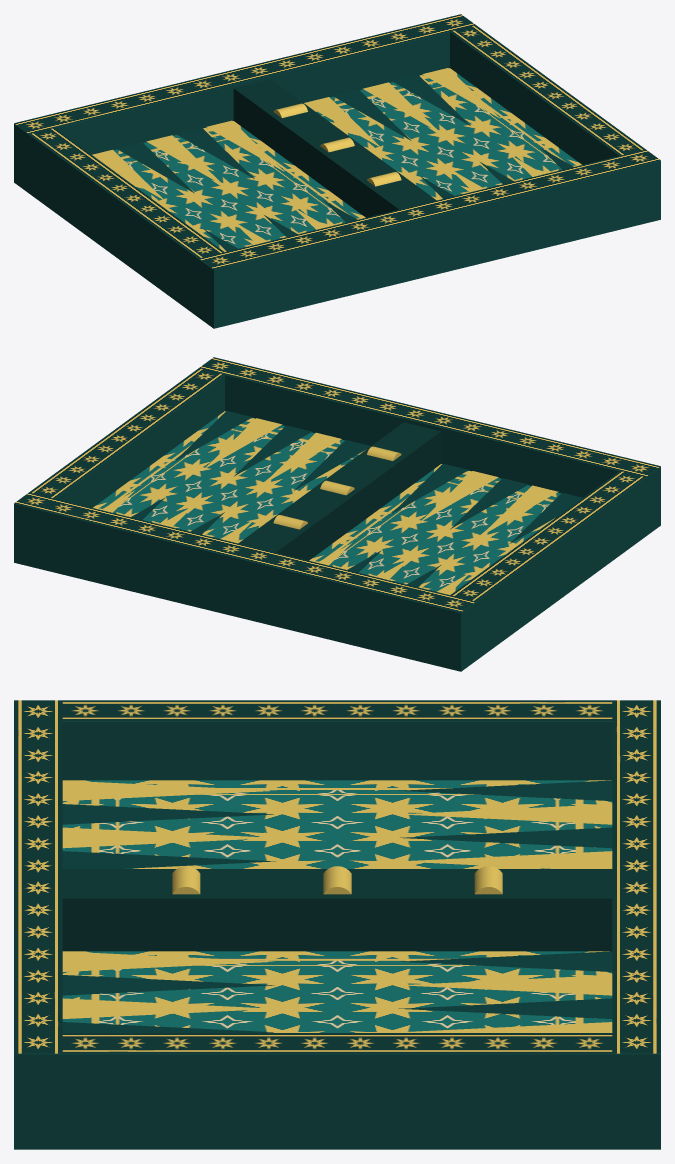
The model's file is board_arabic.glb.
The picture shows the model from 3 angles, top to bottom: view 1: azimuth 30°, elevation 25°; view 2: azimuth 150°, elevation 25°; view 3: azimuth 270°, elevation 25°; orthographic projection. The views are drawn at different scales.
Parts seen in each view (by area): view 1: wall_B, felt_R, base, felt_L, wall_T, bar, wall_L, rail_B, rail_T, wall_R, rail_L, rail_R (+10 smaller); view 2: wall_T, felt_R, base, felt_L, wall_B, bar, wall_L, rail_T, rail_B, wall_R, rail_L, rail_R (+10 smaller); view 3: bar, wall_R, wall_L, felt_L, felt_R, base, rail_T, rail_B, rail_L, rail_R, point_4, point_12 (+17 smaller).
Part boxes in pixels (x1,y1,x2,y2): wall_B: (199,161,660,307); felt_R: (309,68,581,200); base: (14,161,660,328); felt_L: (114,121,365,251); wall_T: (14,31,449,171); bar: (233,79,436,217); wall_L: (15,124,239,307); rail_B: (199,149,660,269); rail_T: (14,14,475,133); wall_R: (450,31,660,204); rail_L: (29,128,224,258); rail_R: (450,25,645,155); wall_T: (14,504,475,649); felt_R: (93,411,365,543); base: (14,504,660,671); felt_L: (309,464,560,594); wall_B: (225,374,619,497); bar: (238,422,441,560); wall_L: (435,466,660,650); rail_T: (14,492,475,612); rail_B: (199,357,660,476); wall_R: (14,374,224,545); rail_L: (450,471,645,601); rail_R: (29,368,224,498); bar: (62,869,612,951); wall_R: (14,1053,660,1115); wall_L: (62,721,612,780); felt_L: (62,780,612,868); felt_R: (62,951,612,1032); base: (14,1115,660,1149); rail_T: (612,700,660,1053); rail_B: (14,700,62,1053); rail_L: (62,700,612,720); rail_R: (62,1033,612,1053); point_4: (62,998,276,1018); point_12: (62,780,276,800).
Bounding box in the file's own units: 0.62 × 0.079 × 0.48.
Materials: 10 (5 with a texture image).
